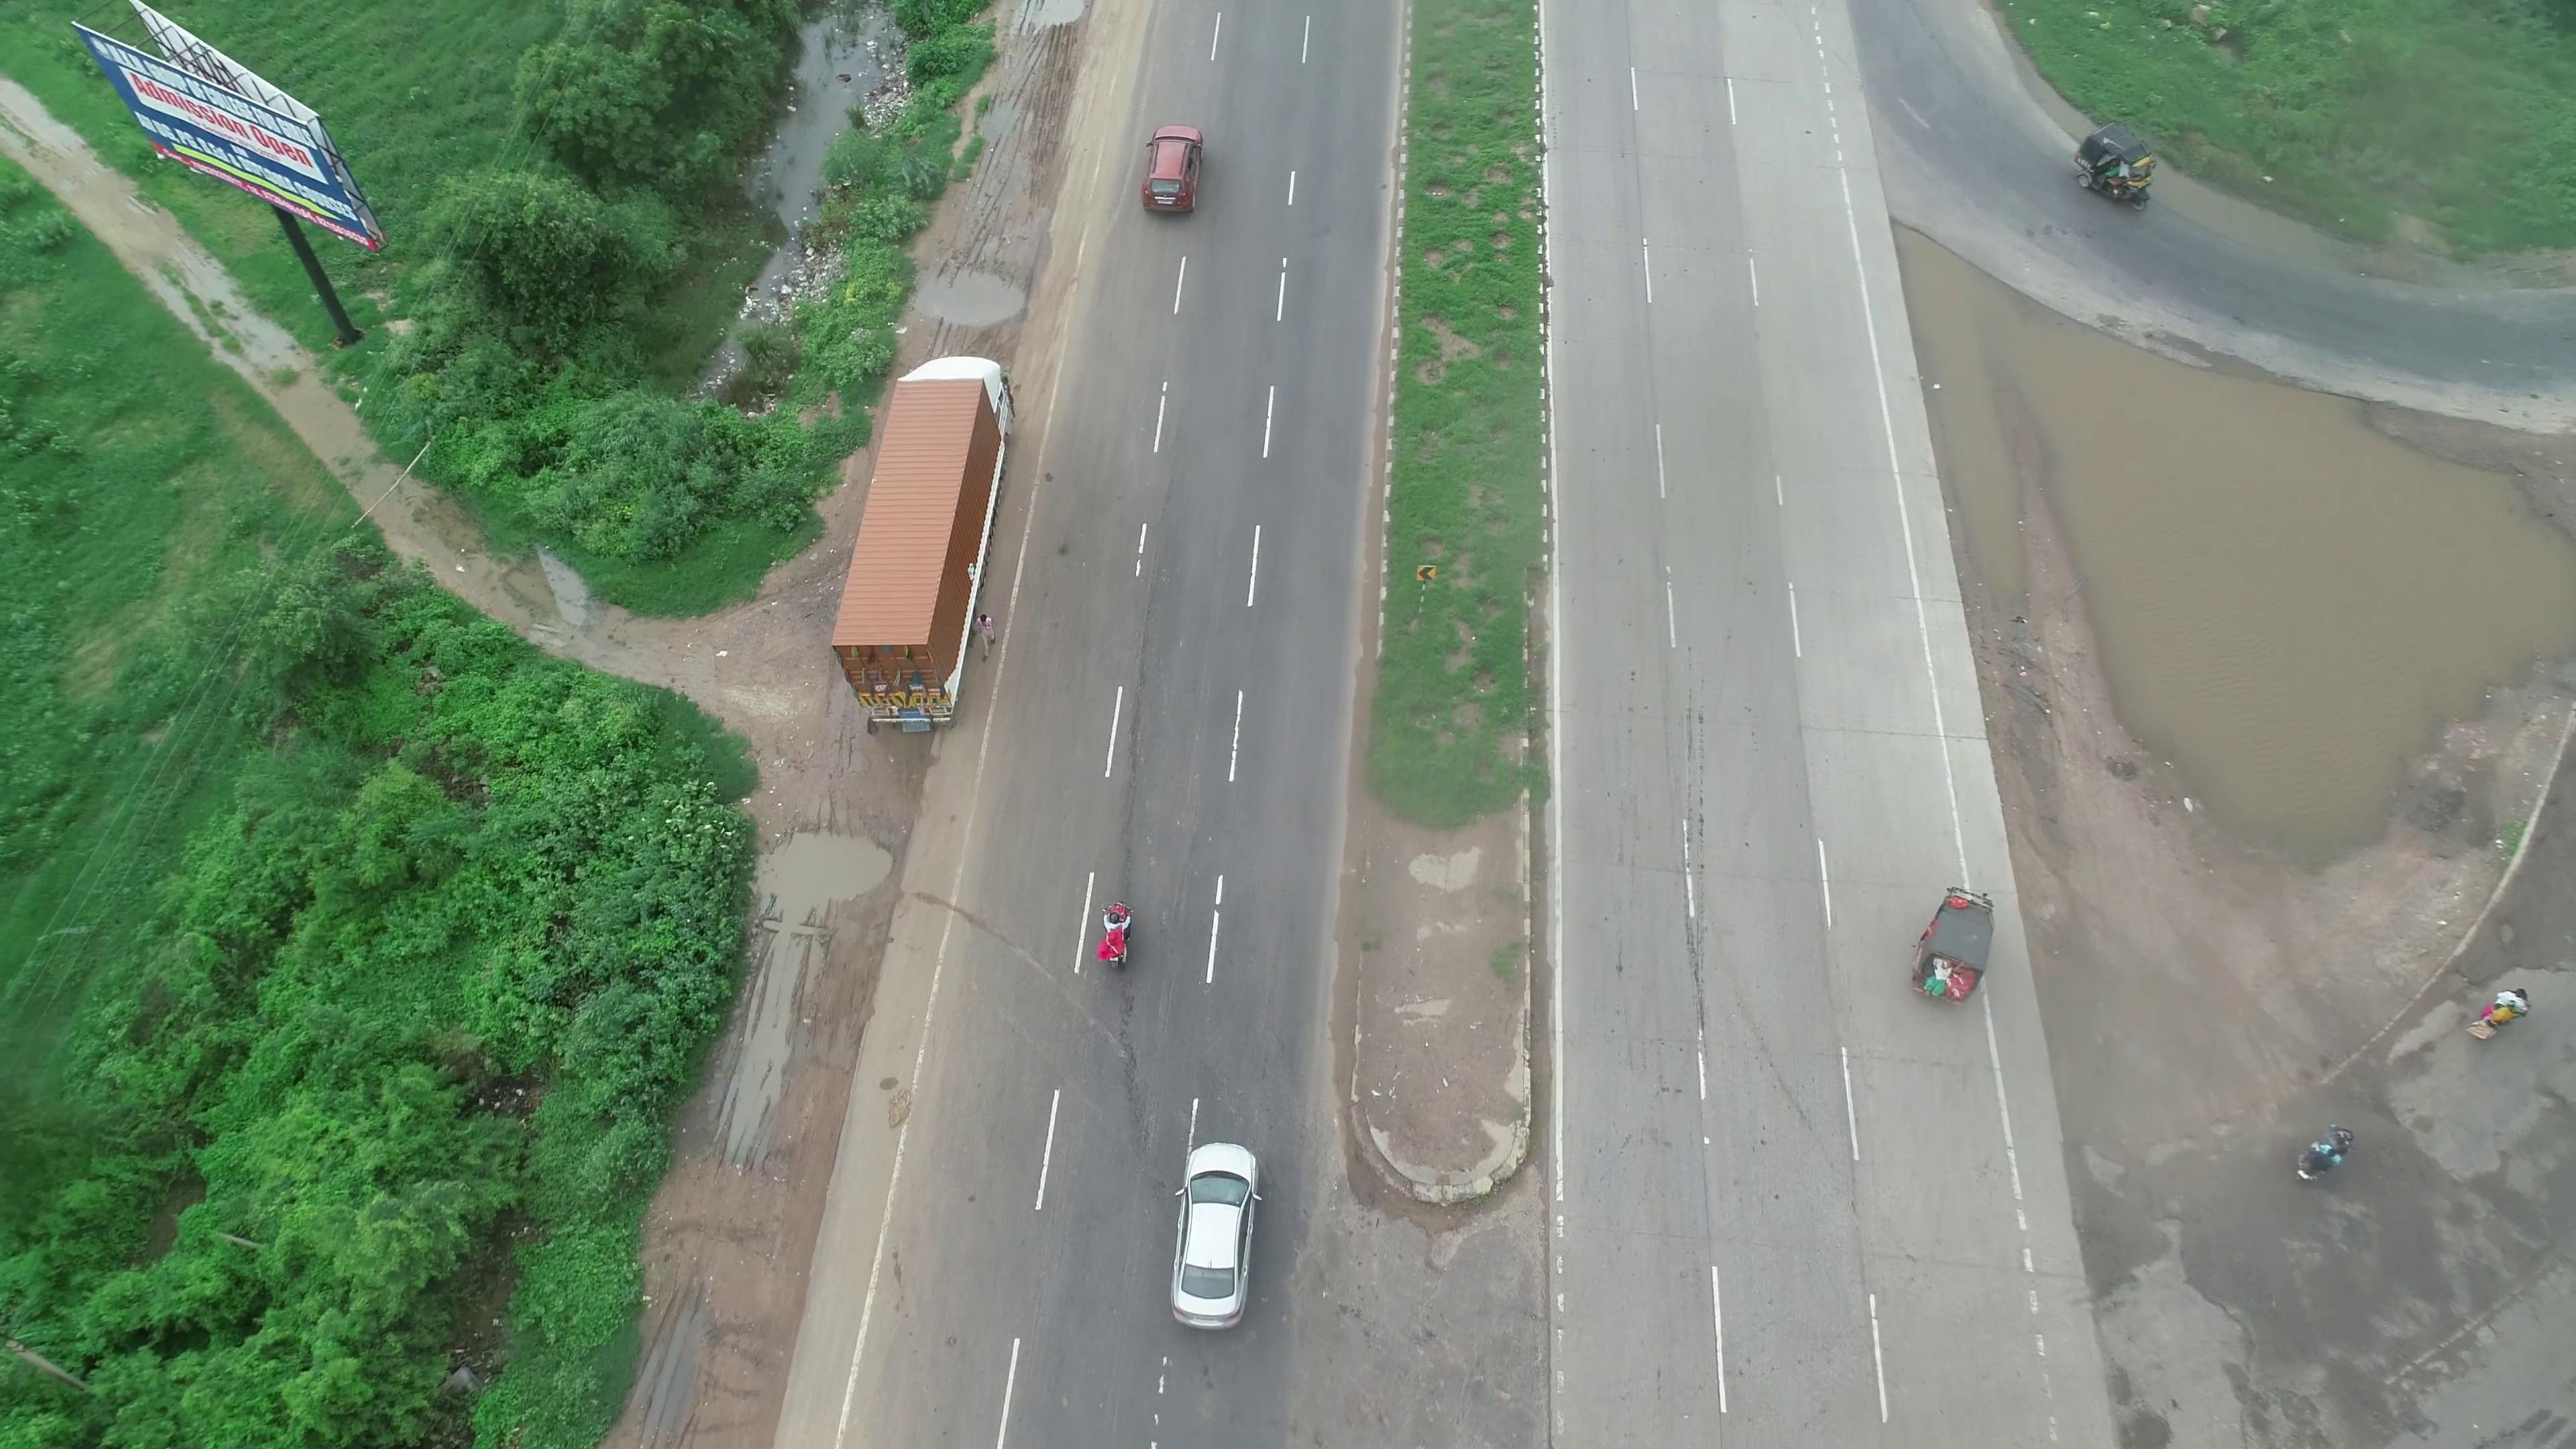Waterlogging: (1865, 230, 2498, 801)
